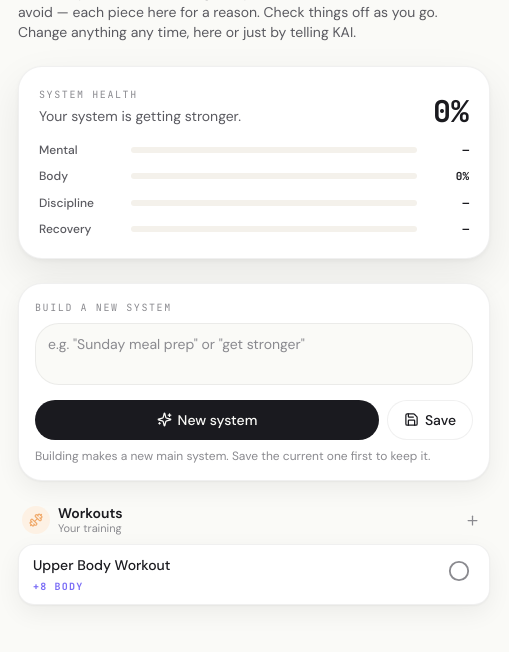
Test: System Health page › rewards completing an action with a System Health bump
(page scrolled)
Click the button named "mark \"Upper Body Workout\" done today" at (459,571), box [443,555,475,587]
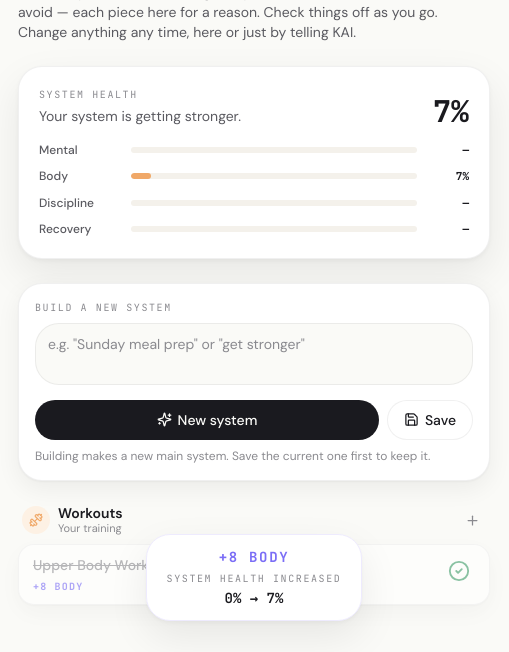
Expected: the 1st text "+8 Body" is shown, [219,548,289,566]
Expected: the text "System health increased" is shown, [167,571,341,586]
Expected: the text "0% → 7%" is shown, [225,589,283,607]
